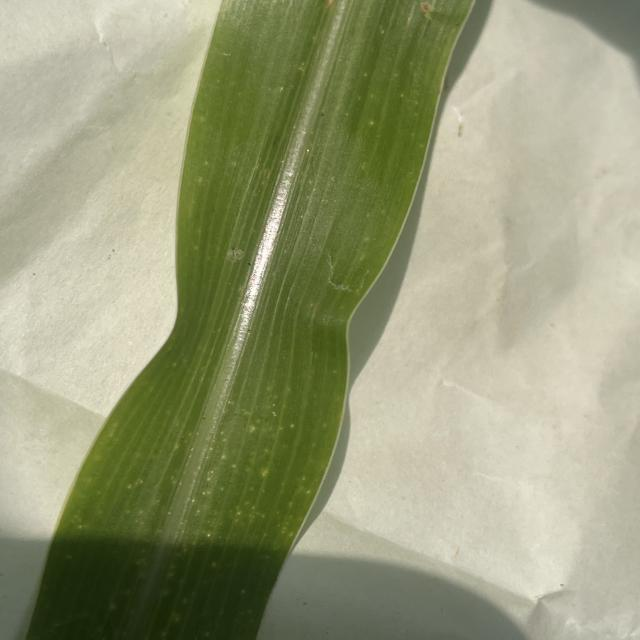millet_healthy: (28, 2, 489, 640)
